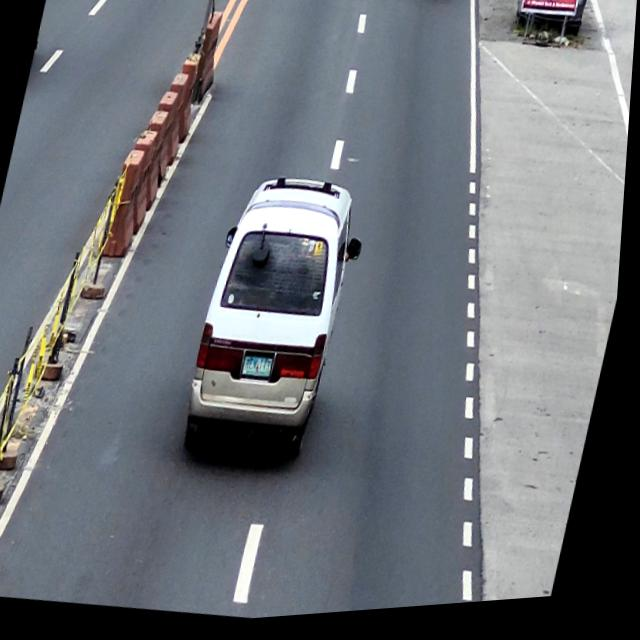Car: (179, 167, 381, 480)
License-Plate: (246, 358, 279, 384)
